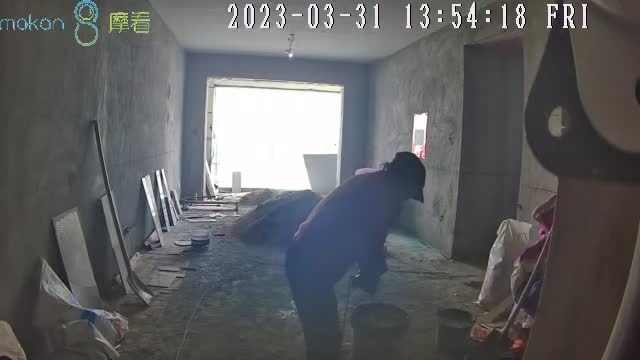people: (287, 150, 428, 360)
window: (211, 84, 341, 191)
